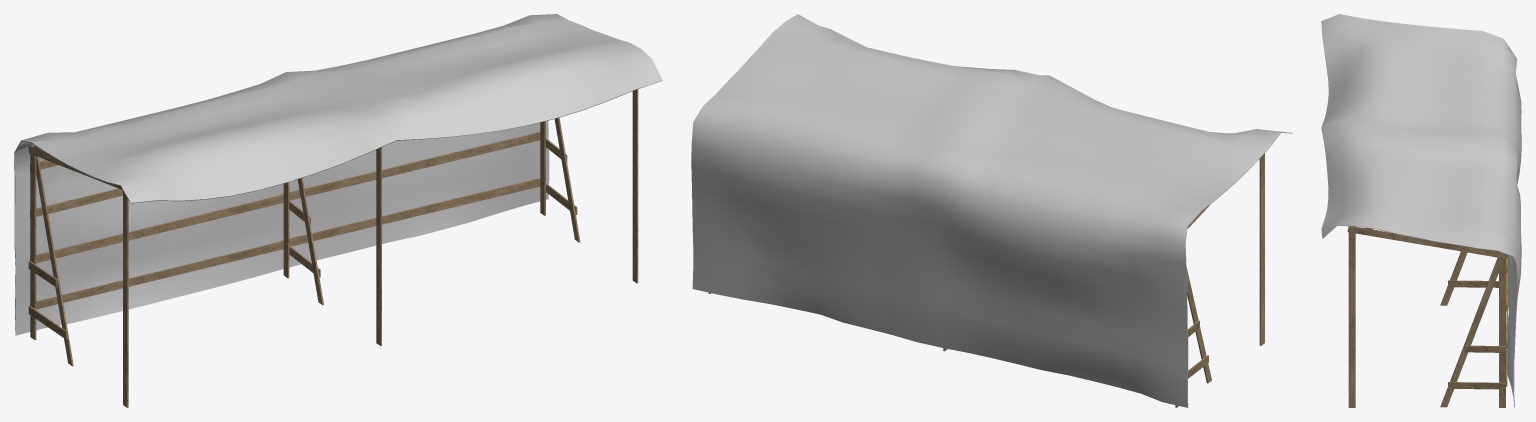
File: SunShade.fbx
The picture shows the model from 3 angles, left to right: view 1: azimuth 30°, elevation 25°; view 2: azimuth 150°, elevation 25°; view 3: azimuth 270°, elevation 25°; orthographic projection. The views are drawn at different scales.
Visible parts, largest first — view 1: Shade, Sunshade_2; view 2: Shade, Sunshade_2; view 3: Shade, Sunshade_2.
Part boxes in pixels (x1,y1,x2,y2): Shade: (14,14,662,335); Sunshade_2: (28,89,638,407); Shade: (691,14,1292,407); Sunshade_2: (706,119,1264,407); Shade: (1321,14,1521,407); Sunshade_2: (1347,226,1508,407).
Bounding box in the file's own units: 730 × 299 × 290.
